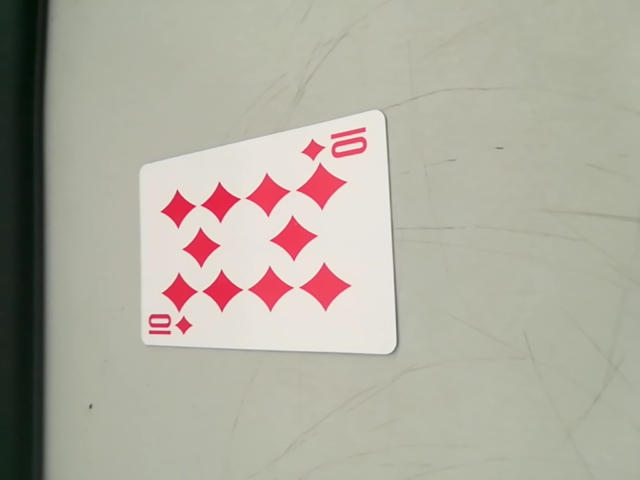fk 10: (301, 122, 374, 167), (142, 309, 198, 344)
